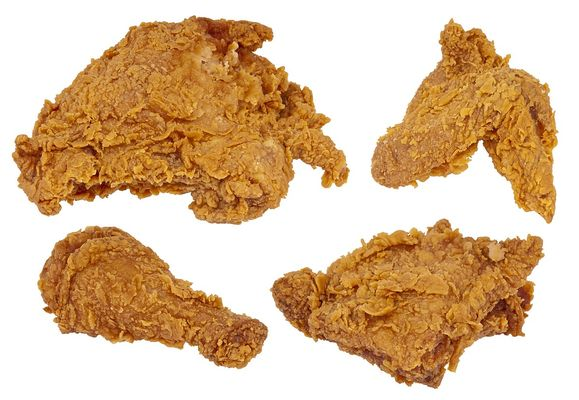sushi: (12, 4, 576, 389), (12, 17, 349, 225), (270, 220, 543, 388)
